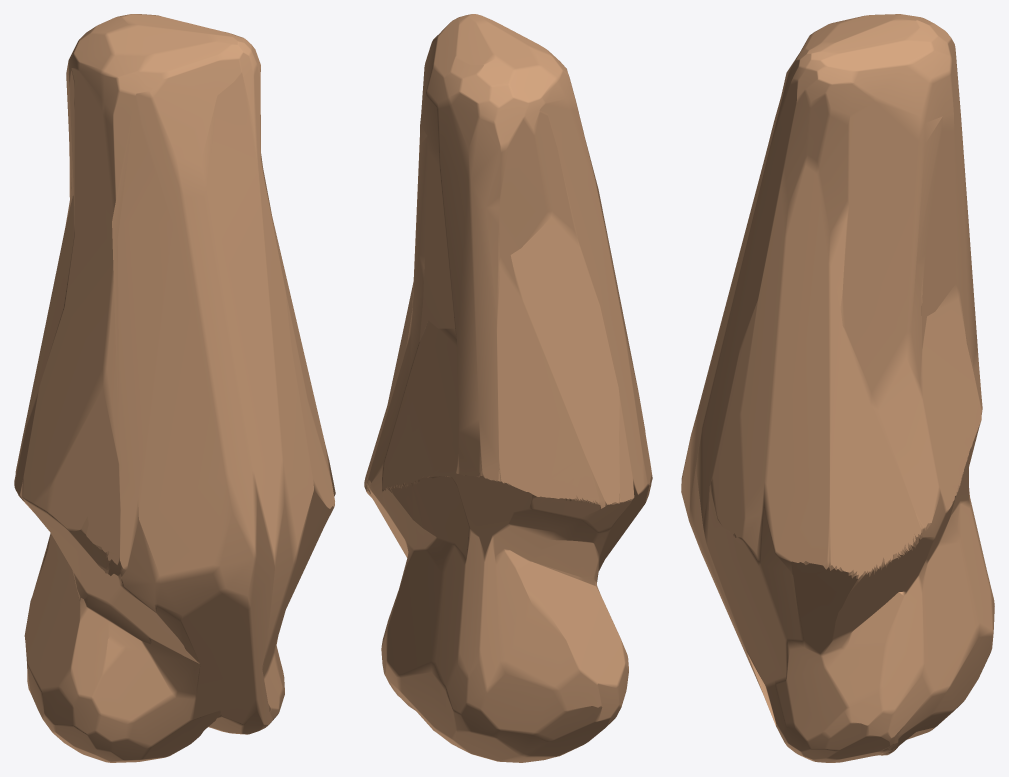
3 renders of one model, left to right at view 1: azimuth 30°, elevation 25°; view 2: azimuth 150°, elevation 25°; view 3: azimuth 270°, elevation 25°, orthographic. The views are drawn at different scales.
Visible parts, largest first — view 1: Mesh_22_LOD0; view 2: Mesh_22_LOD0; view 3: Mesh_22_LOD0.
Part boxes in pixels (<box>): Mesh_22_LOD0: <box>14,14,335,762</box>; Mesh_22_LOD0: <box>364,14,652,762</box>; Mesh_22_LOD0: <box>681,14,994,762</box>.
Size of what is drawn, in the model's own units: 310 by 756 by 298.
